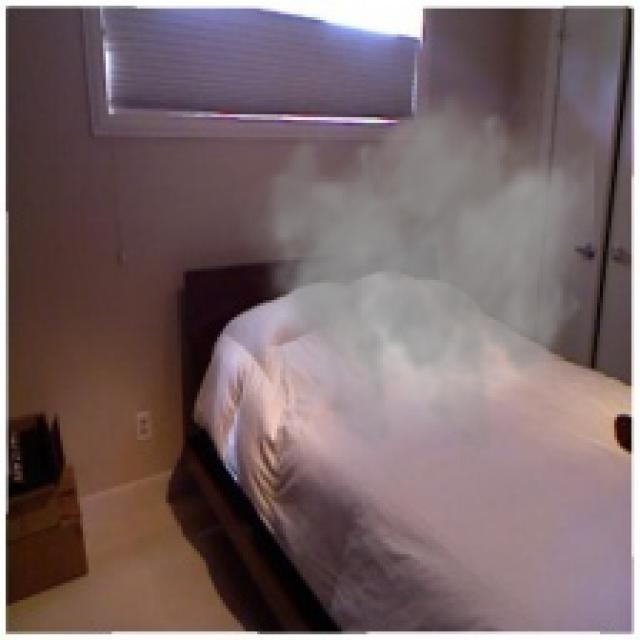smoke: (232, 83, 594, 454)
